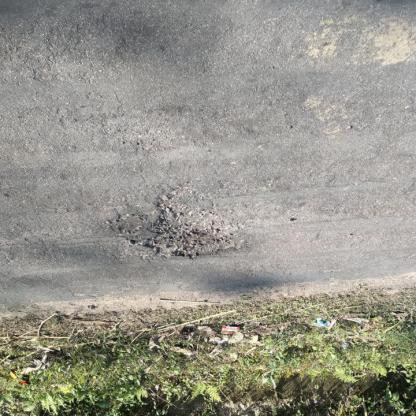pothole: (136, 194, 251, 261)
